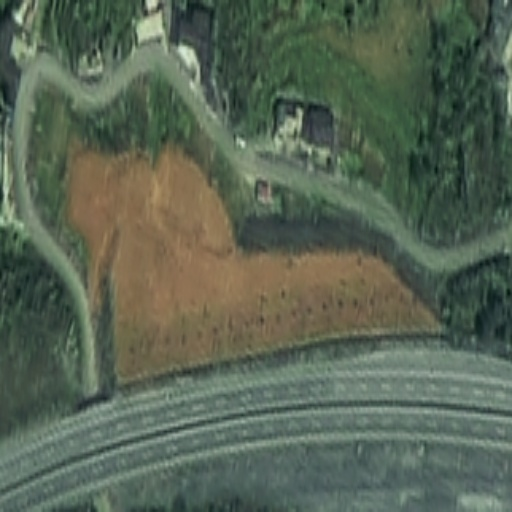landslide: (66, 152, 426, 349)
